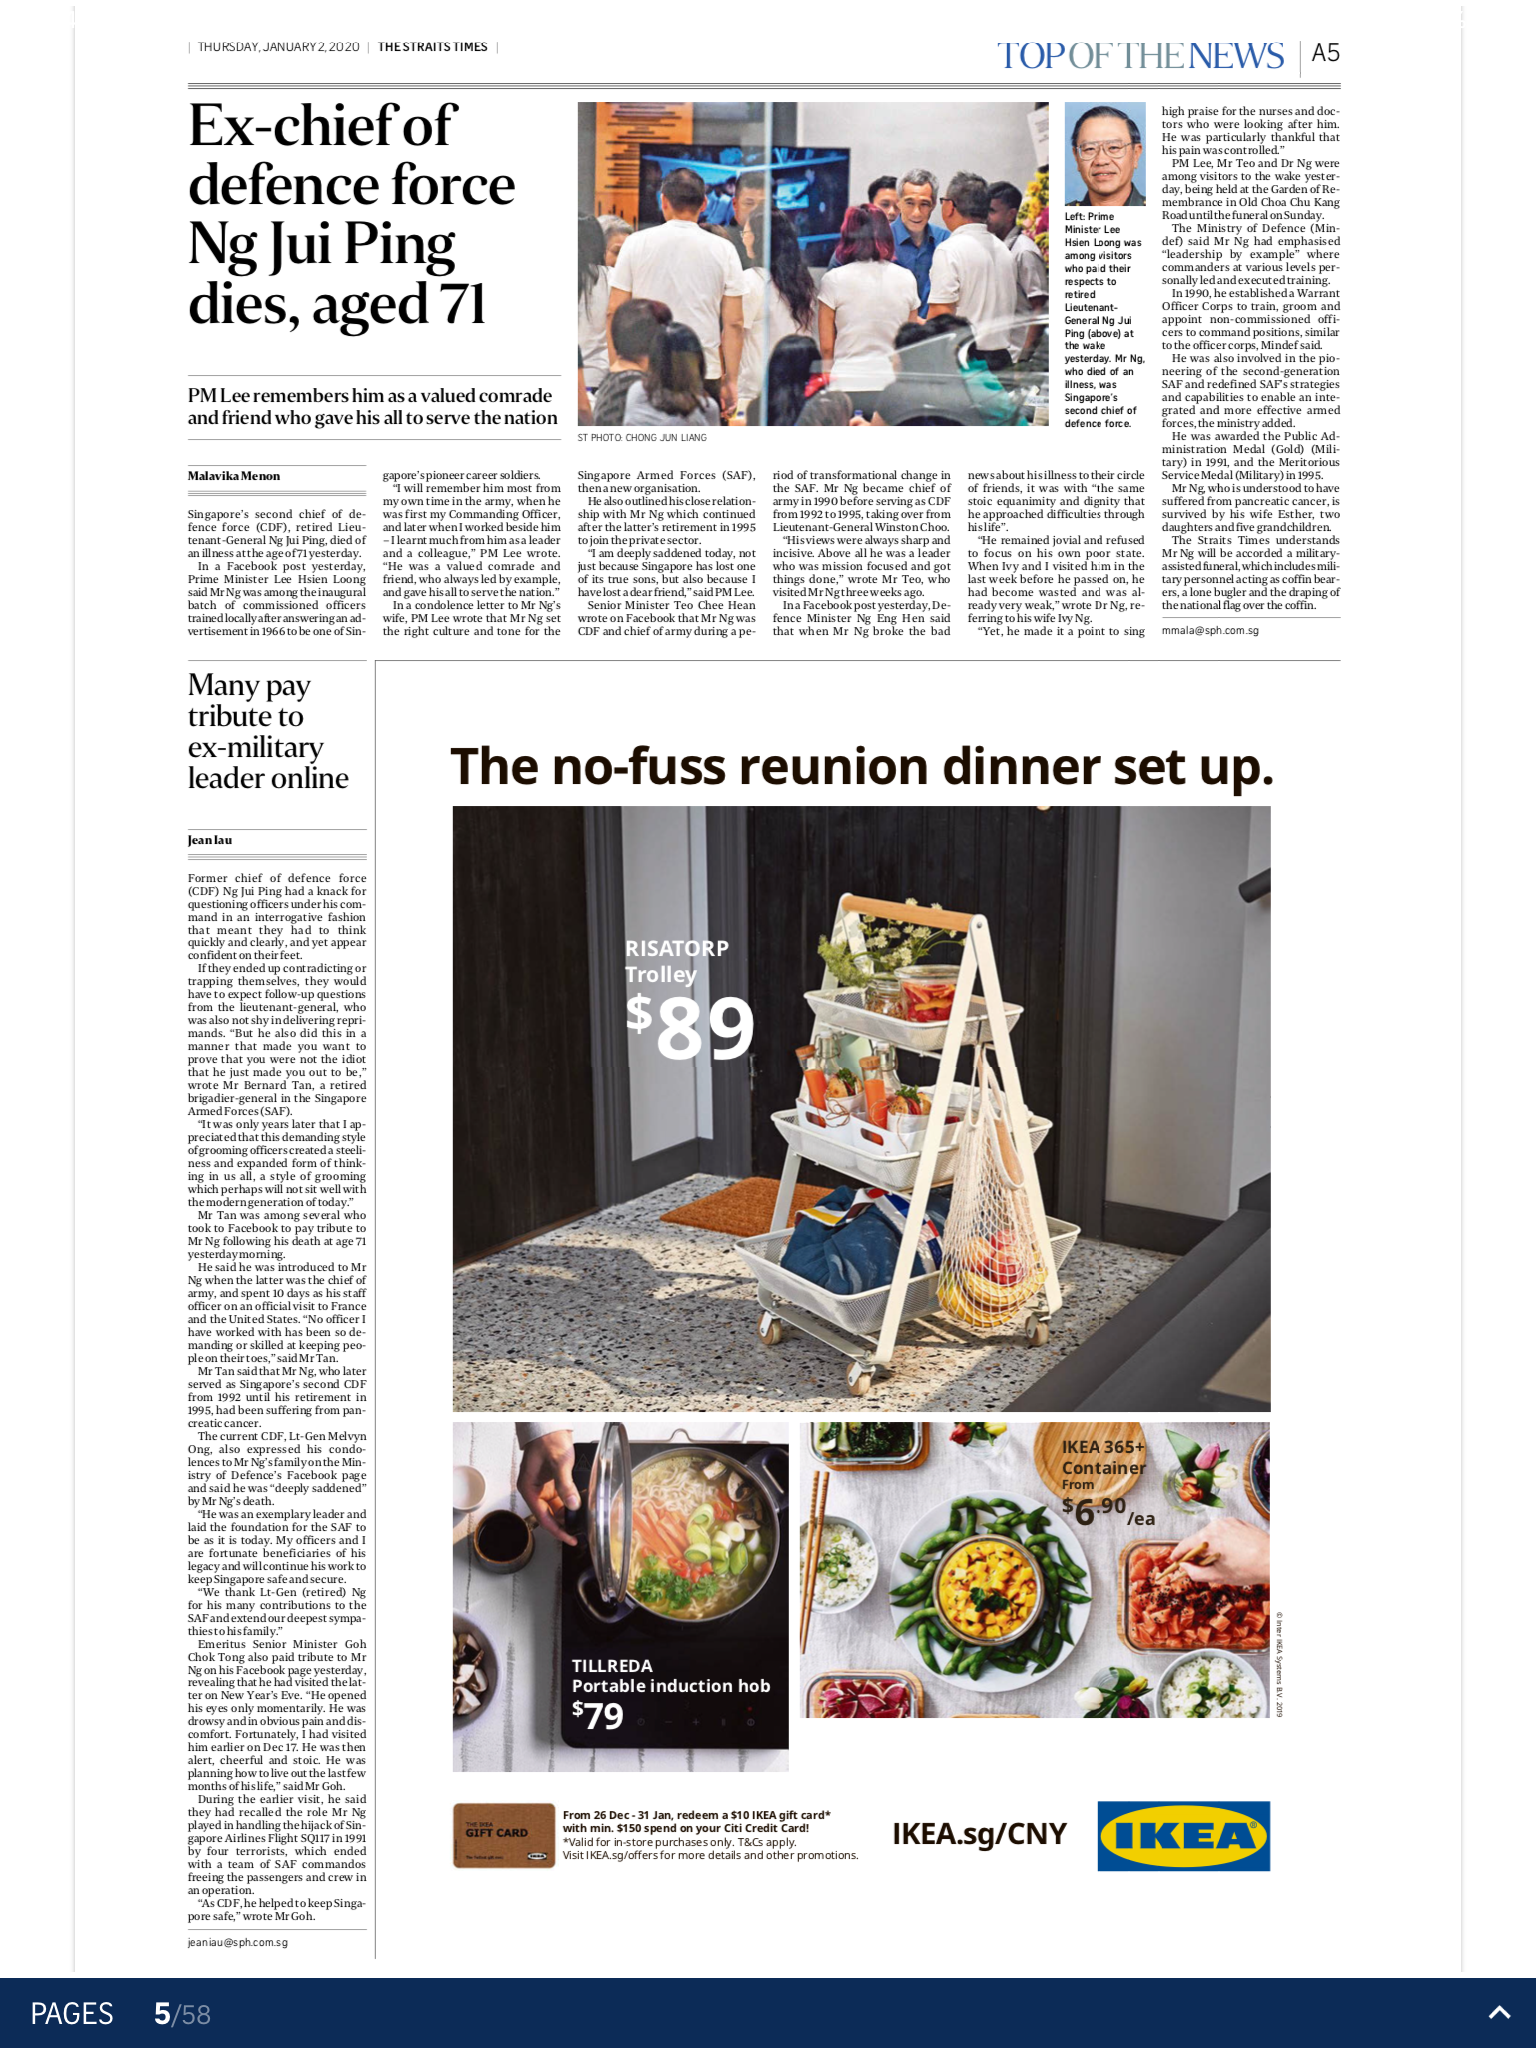Byline: (186, 468, 286, 484), (186, 832, 236, 850)
Headline: (182, 92, 529, 343), (440, 732, 1284, 797), (182, 664, 357, 797)
Illustration: (553, 1800, 866, 1871), (1062, 210, 1149, 432)
Image: (458, 801, 1276, 1409), (578, 97, 1050, 426), (805, 1421, 1288, 1713), (449, 1419, 787, 1779), (1070, 103, 1150, 210)
Text: (177, 864, 374, 1922), (1154, 95, 1350, 621), (765, 456, 960, 648), (958, 461, 1158, 645), (378, 463, 573, 648), (570, 466, 763, 647), (181, 493, 378, 650), (182, 381, 566, 432)
